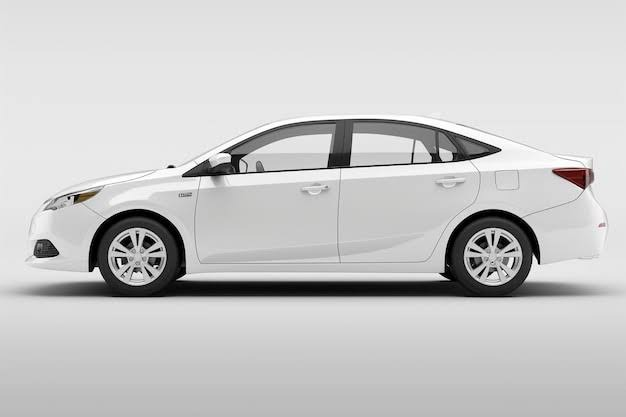car: (15, 117, 620, 294)
